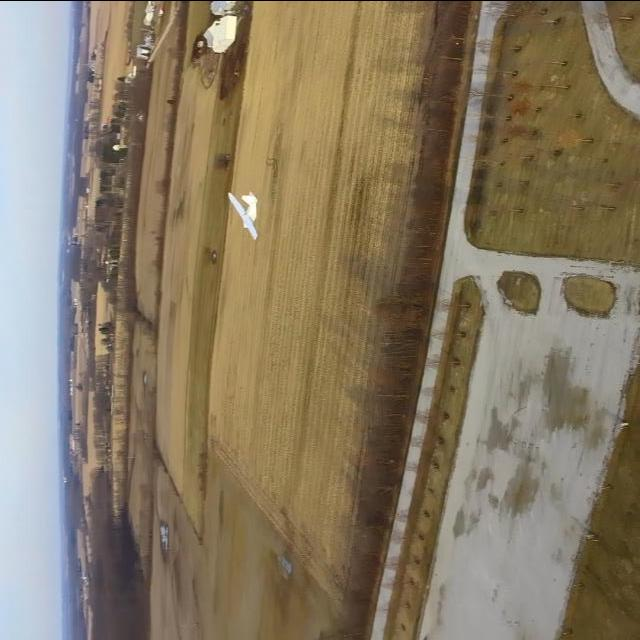UAV: (209, 109, 319, 242)
